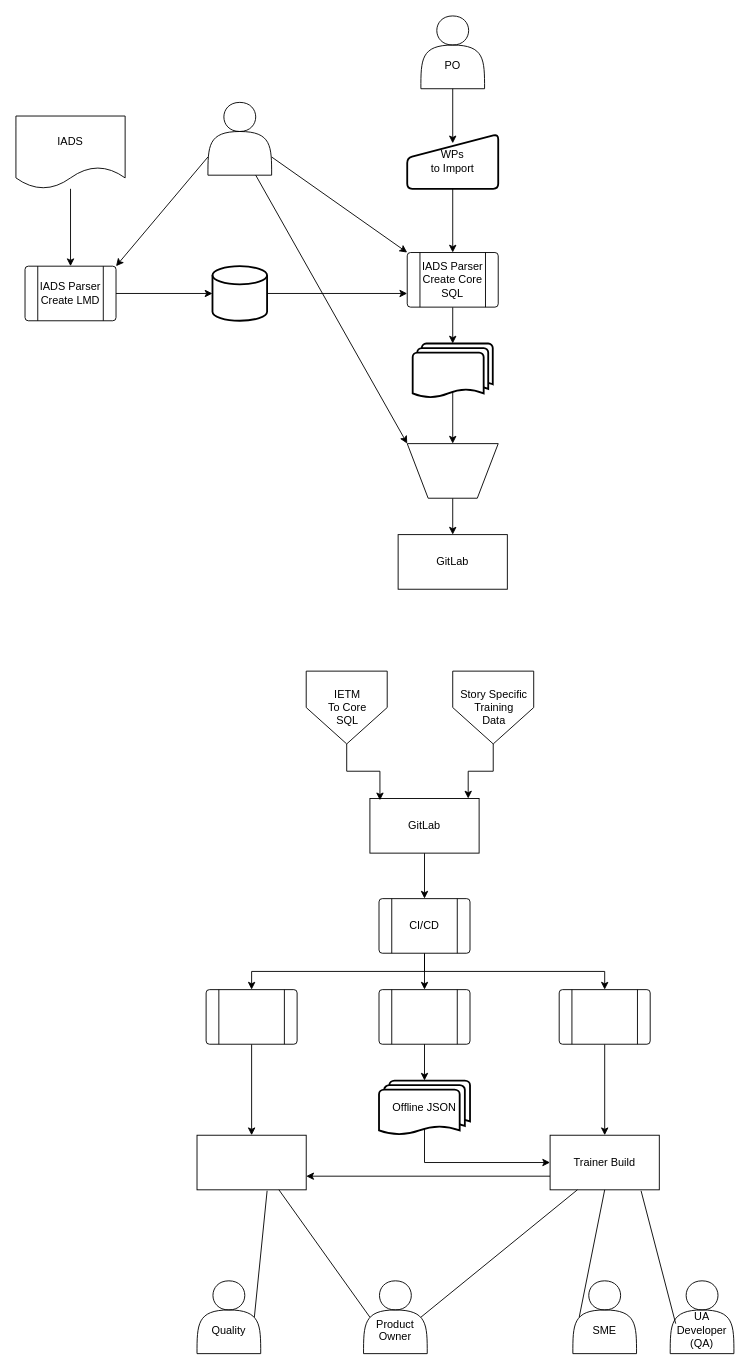
Image size: 750x1370. Some labels were removed from this diagram. The box of each missing label's shape, as (x1, y1, x2, y2) in pixels:
Air Gap Build: (196, 1134, 306, 1190)
Commit Core SQL Commands: (406, 443, 498, 498)
Core SQL: (411, 342, 493, 399)
Create Air Gap: (205, 989, 297, 1044)
Create Build Daily, Sprint, RC: (558, 989, 650, 1044)
Create Offline: (378, 989, 470, 1044)
LMD: (211, 265, 268, 321)
S&T Developer: (207, 101, 272, 175)
